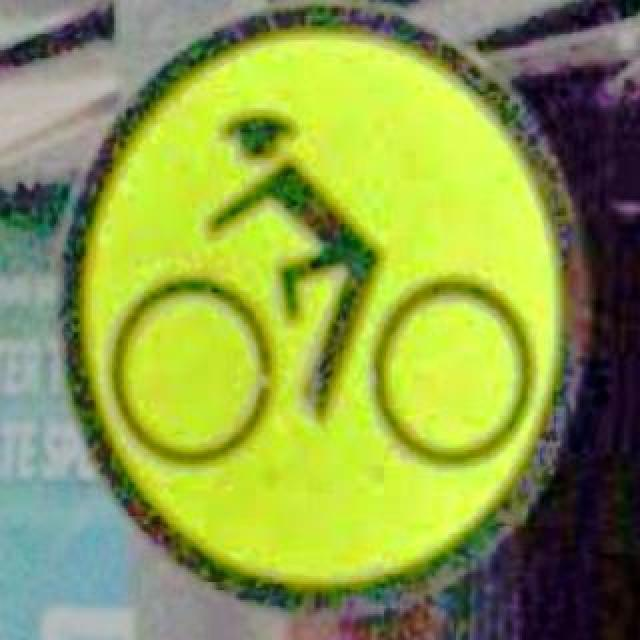bike lane: (54, 4, 590, 610)
